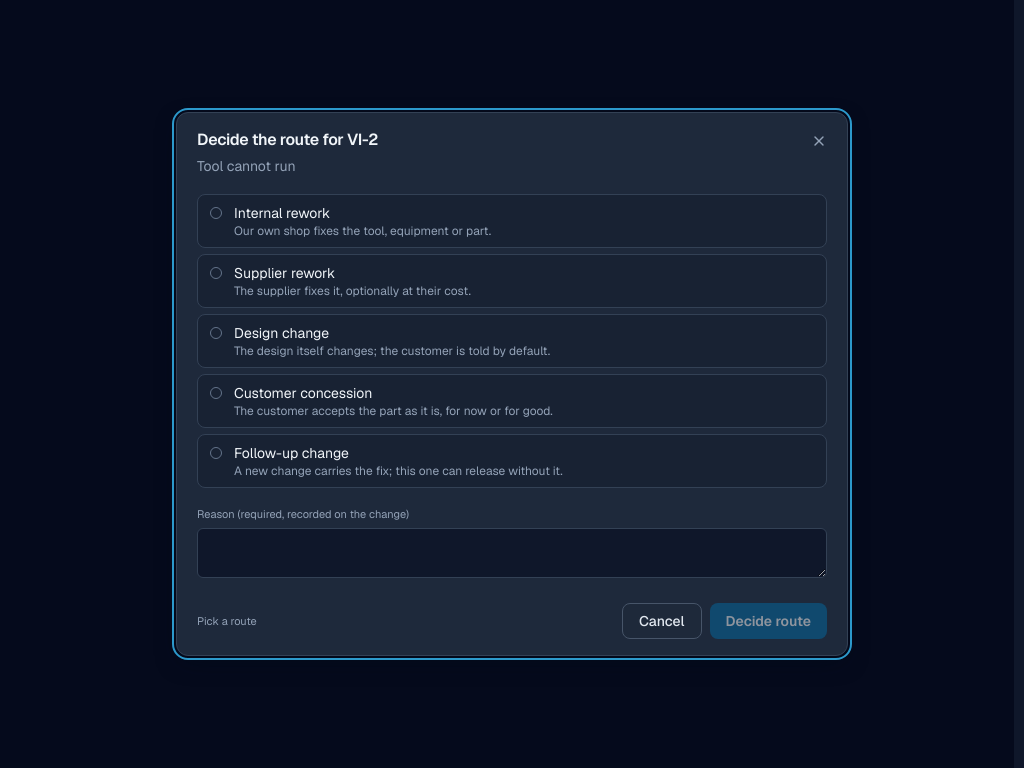
route dialog › a follow-up change says the issue is transferred
Click the radio button with test id "route-option-follow_up_change": (512, 461) [197,434,827,488]
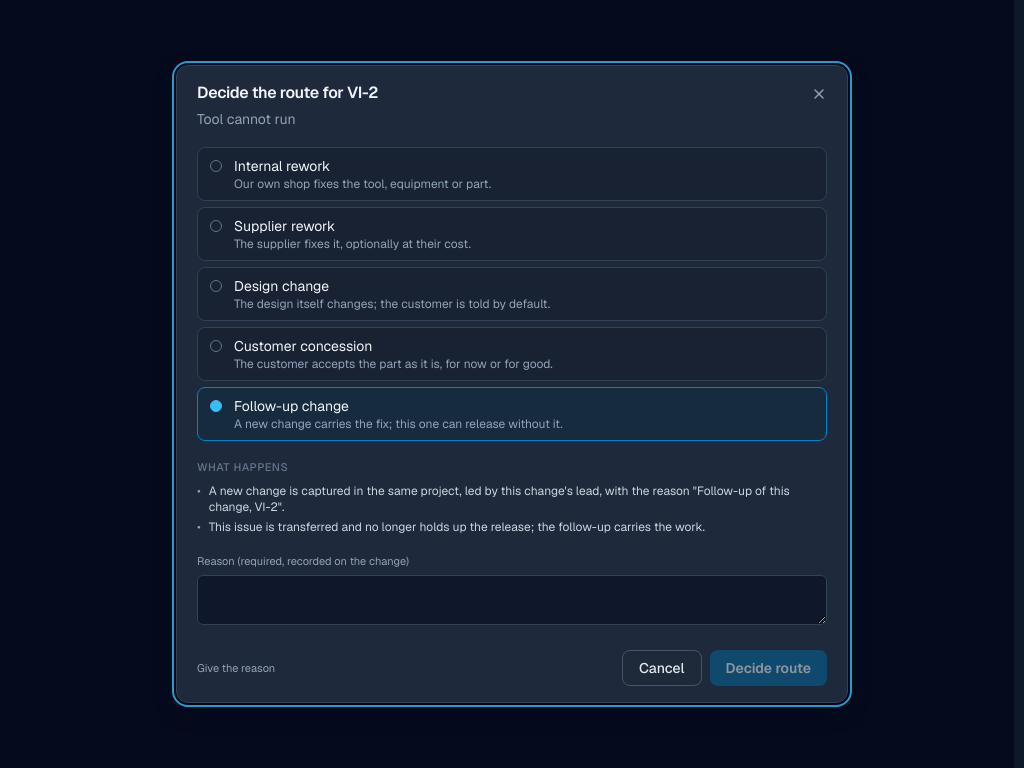
Now the element with test id "route-consequences" shows "transferred and no longer holds up the release", box [209,519,705,535]
